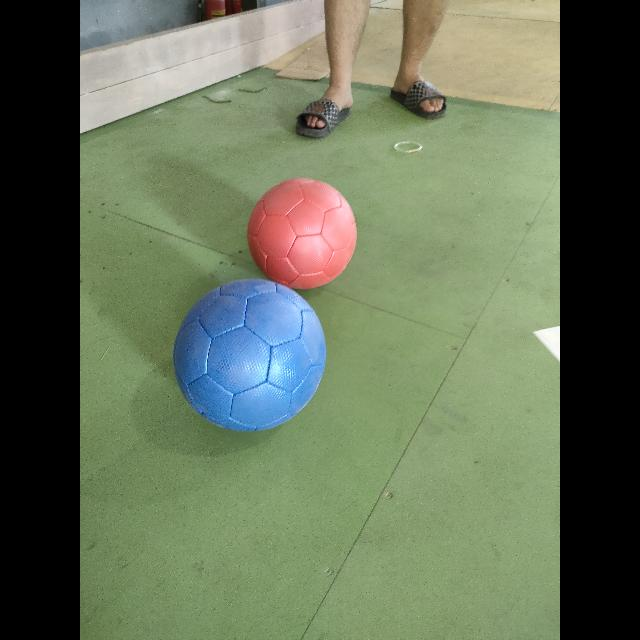B: (174, 279, 325, 431)
R: (248, 178, 356, 289)
